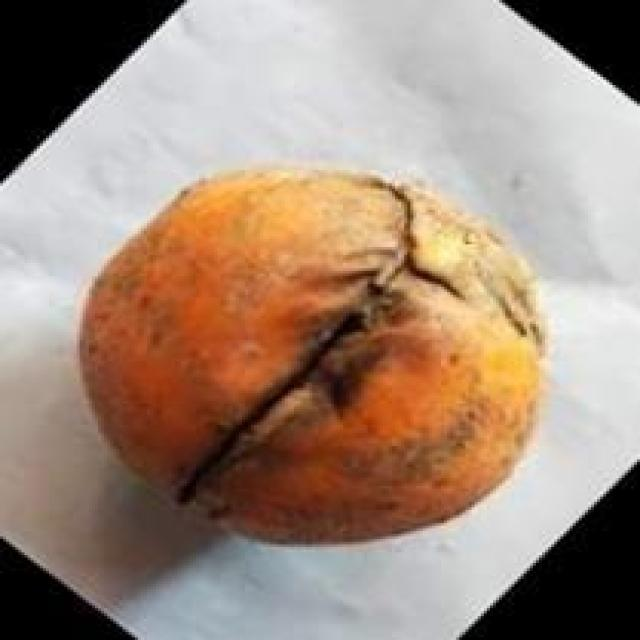damaged: (73, 162, 551, 550)
